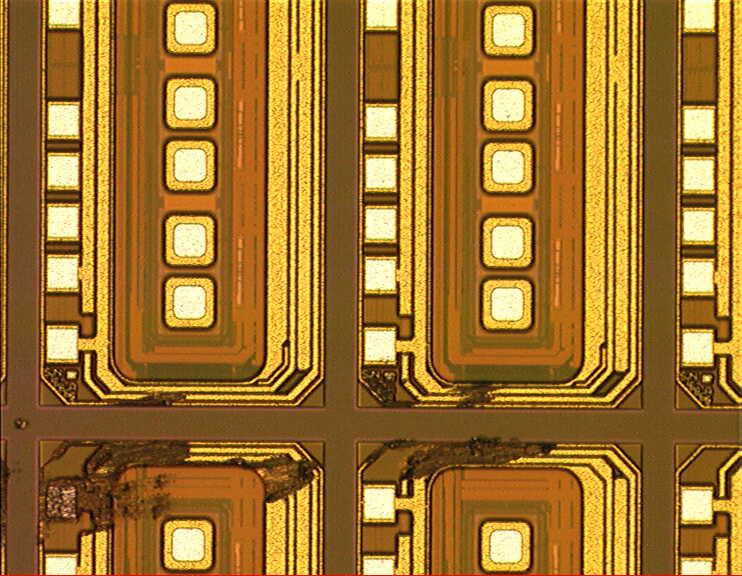SCRATCH: (1, 363, 558, 556)
